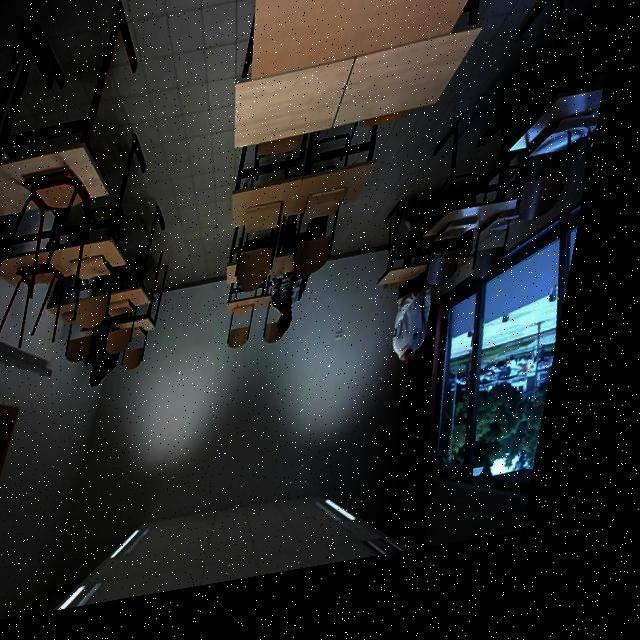phone_use: (263, 271, 307, 341), (89, 327, 144, 382)
